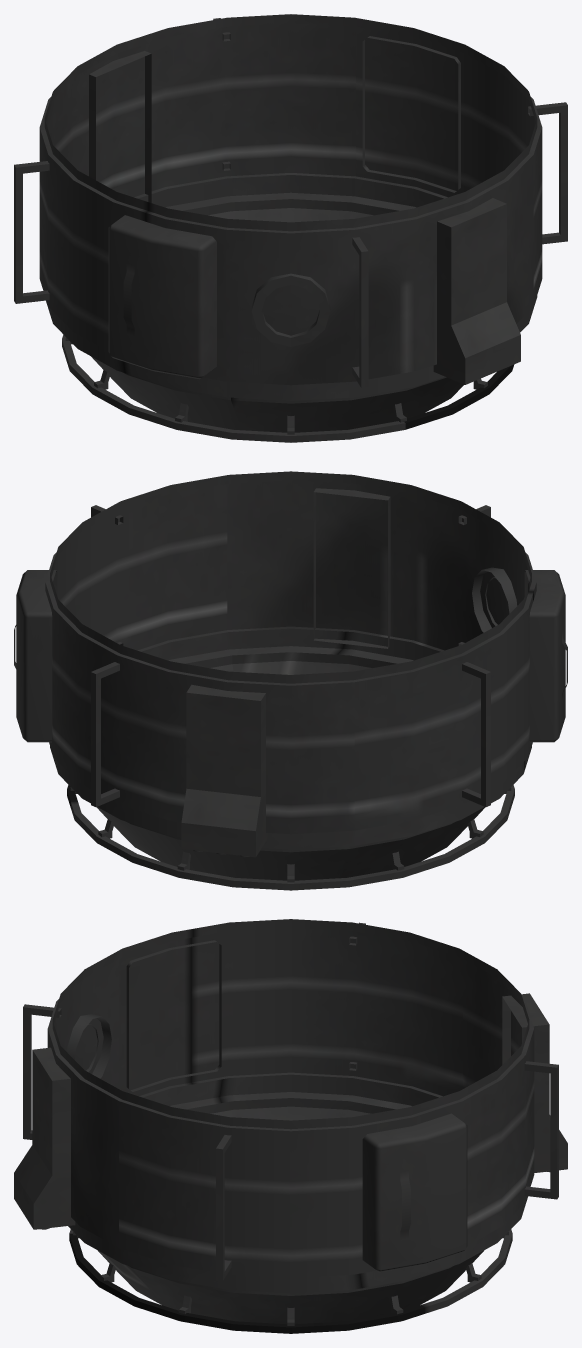
Rendered from service_module.fbx.
3 views of the same model, one above another, from view 1: azimuth 30°, elevation 25°; view 2: azimuth 150°, elevation 25°; view 3: azimuth 270°, elevation 25° (orthographic). The views are drawn at different scales.
Visible parts, largest first — view 1: service_module; view 2: service_module; view 3: service_module.
Boxes of the visible parts, box(x1,y1,x2,y2) form: service_module: box(14, 14, 567, 442); service_module: box(14, 471, 567, 890); service_module: box(14, 919, 567, 1333).
Size of what is drawn, in the model's own units: 1.41 by 0.675 by 1.45.
